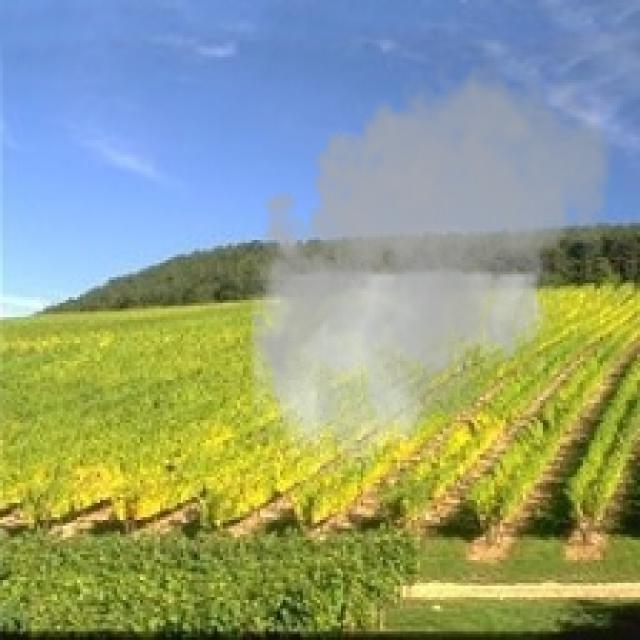smoke: (237, 49, 620, 474)
